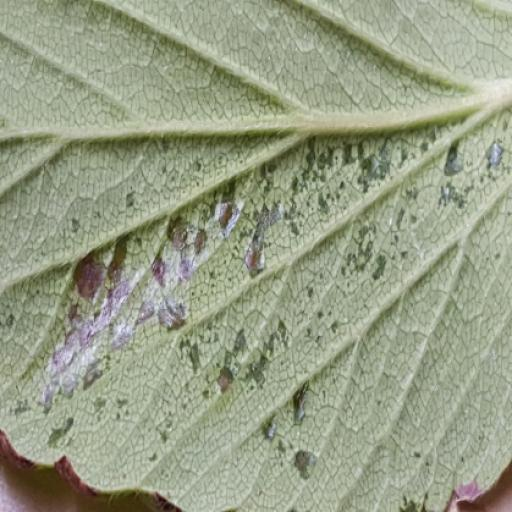Angular Leafspot: (0, 100, 511, 511)
